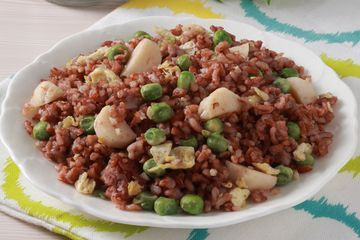Nasi Merah: (32, 37, 324, 208)
